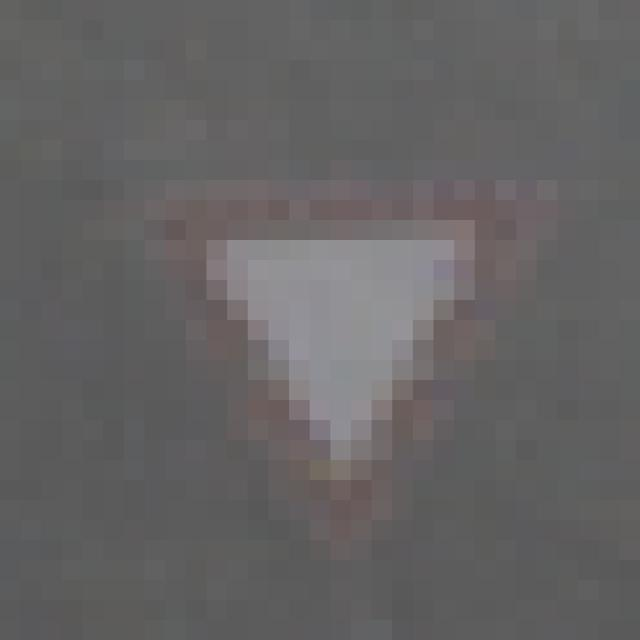Give Way: (104, 121, 538, 541)
